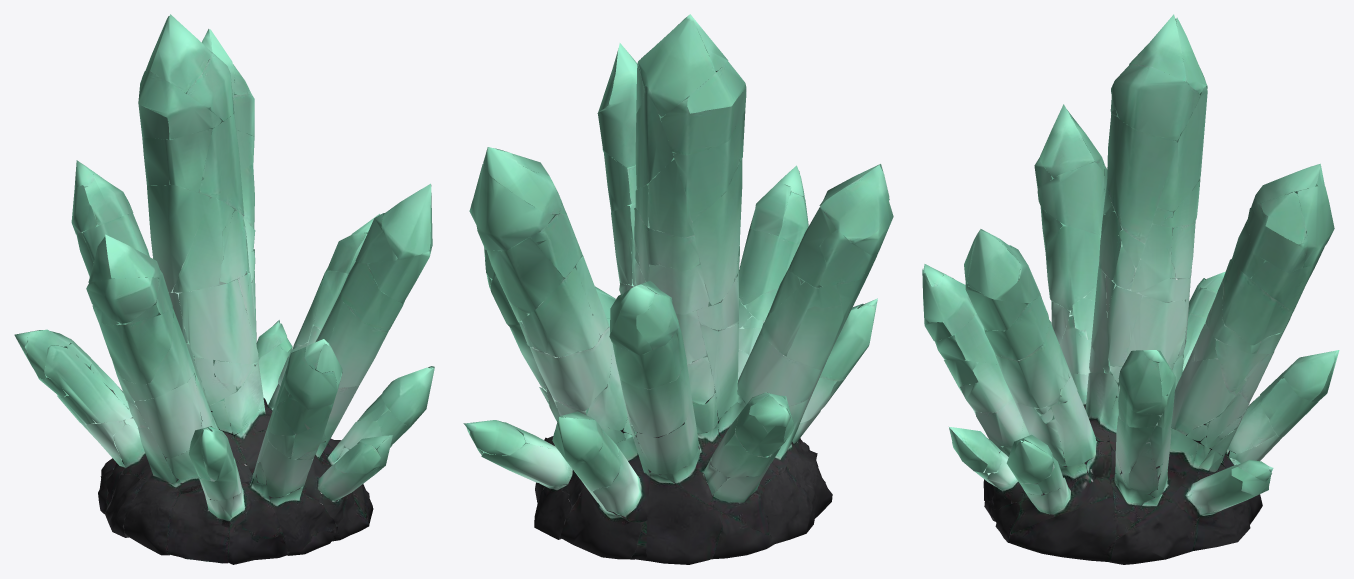
Rendered from crystal-cluster.glb.
The picture shows the model from 3 angles, left to right: view 1: azimuth 30°, elevation 25°; view 2: azimuth 150°, elevation 25°; view 3: azimuth 270°, elevation 25°; orthographic projection. The views are drawn at different scales.
Parts seen in each view (by area): view 1: mesh_node; view 2: mesh_node; view 3: mesh_node.
Boxes of the visible parts, x1,y1,x2,y2 form: mesh_node: [14, 14, 434, 564]; mesh_node: [463, 14, 893, 564]; mesh_node: [922, 14, 1339, 564].
Size of the model in its own units: 1.15 by 1.6 by 1.28.
1 material, 1 textured.
